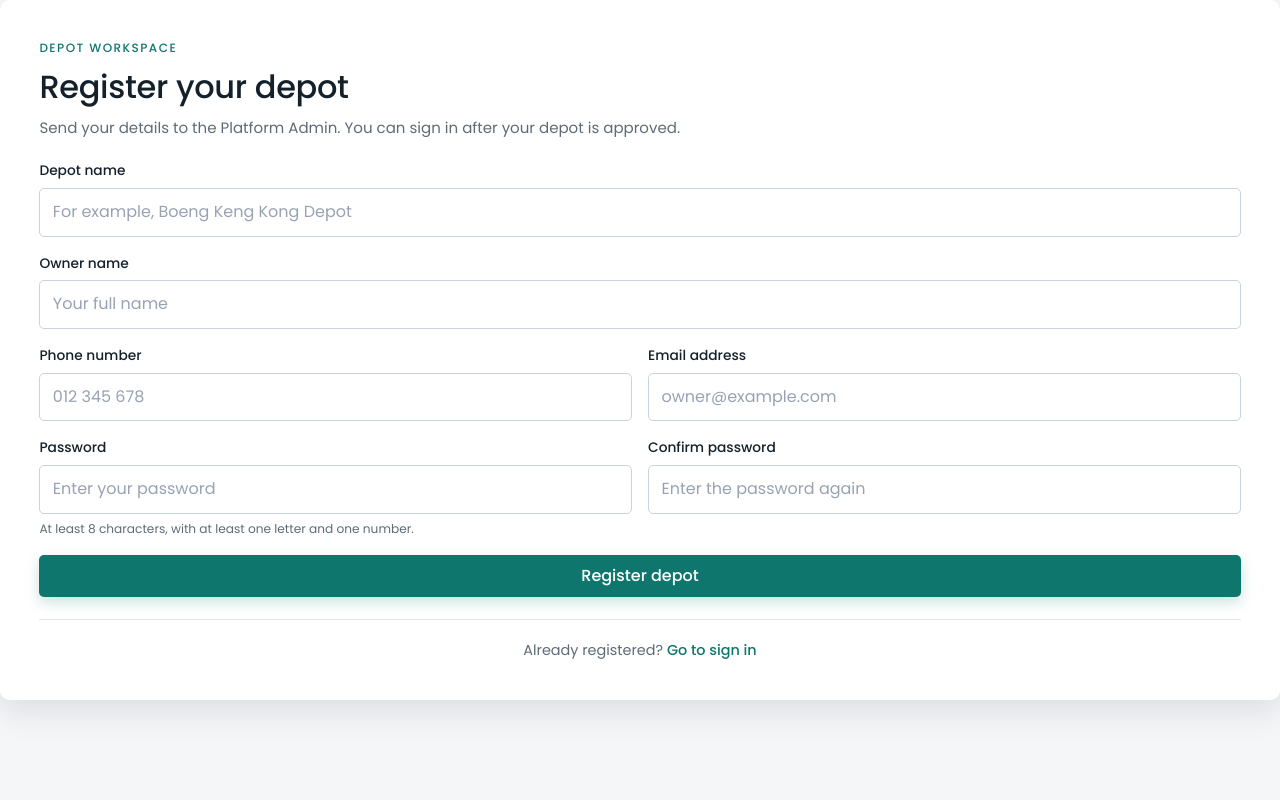
it: RegisterForm › validates the email and phone fields
The width and height of the screenshot is (1280, 800).
Type "Depot A" into the field labelled "Depot name".
click(640, 212); type("Depot A")  # box 39,188 -> 1241,237
Type "Owner A" into the field labelled "Owner name".
click(640, 305); type("Owner A")  # box 39,280 -> 1241,329
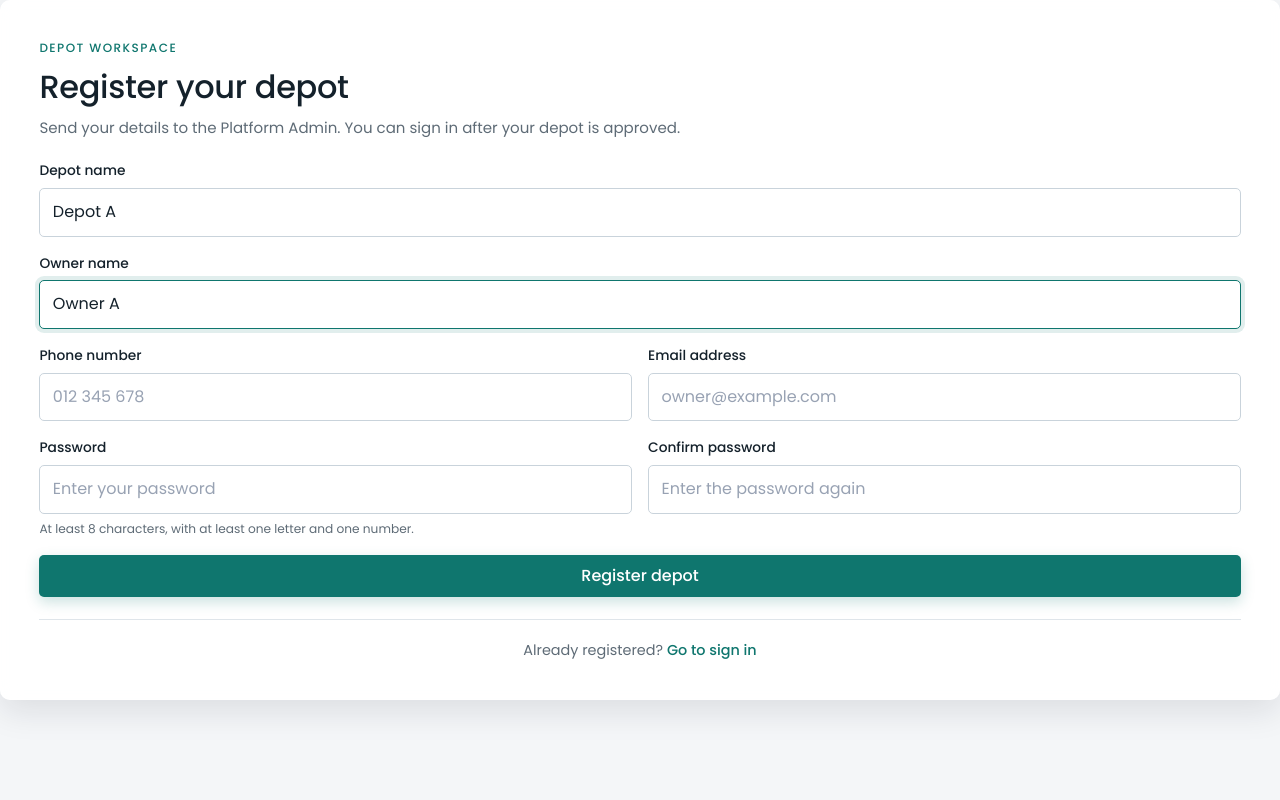
Type "not-a-phone" into the field labelled "Phone number".
click(336, 397); type("not-a-phone")  # box 39,373 -> 632,421
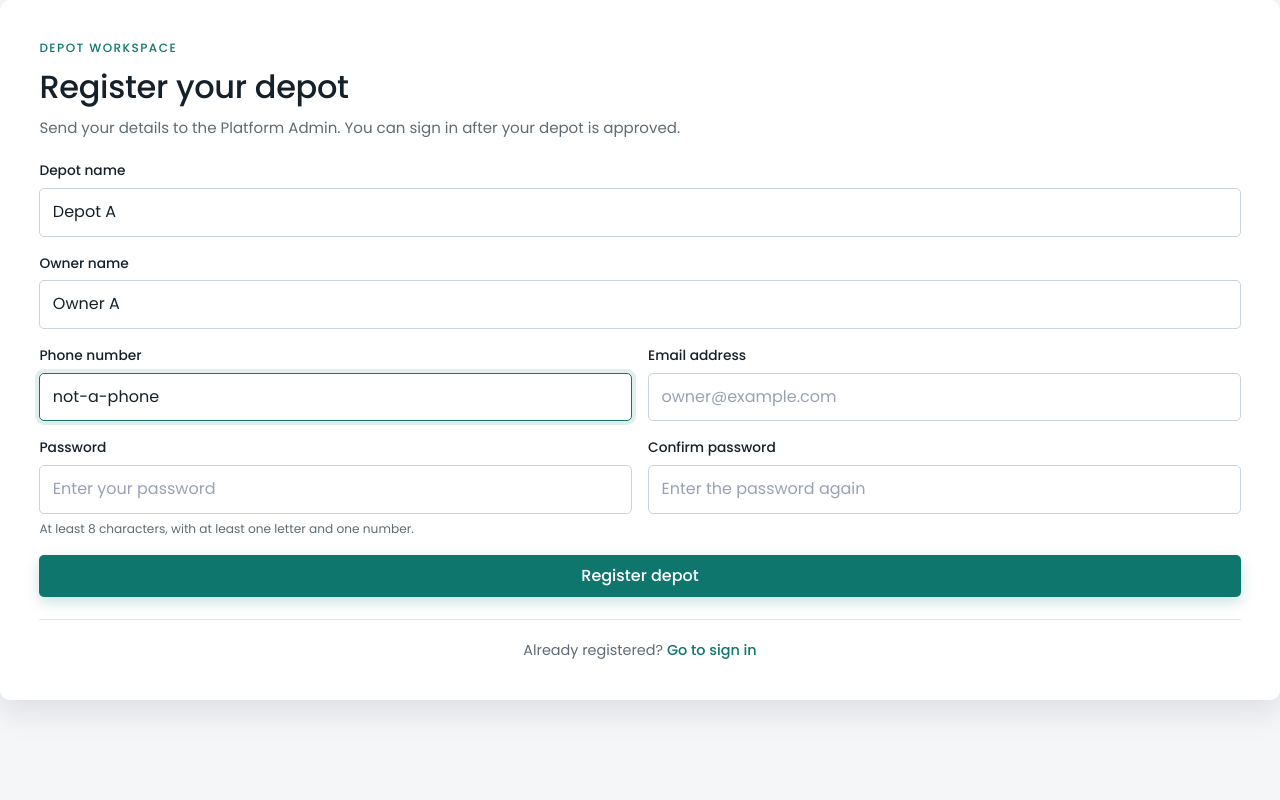
Type "not-an-email" into the field labelled "Email address".
click(944, 397); type("not-an-email")  # box 648,373 -> 1241,421
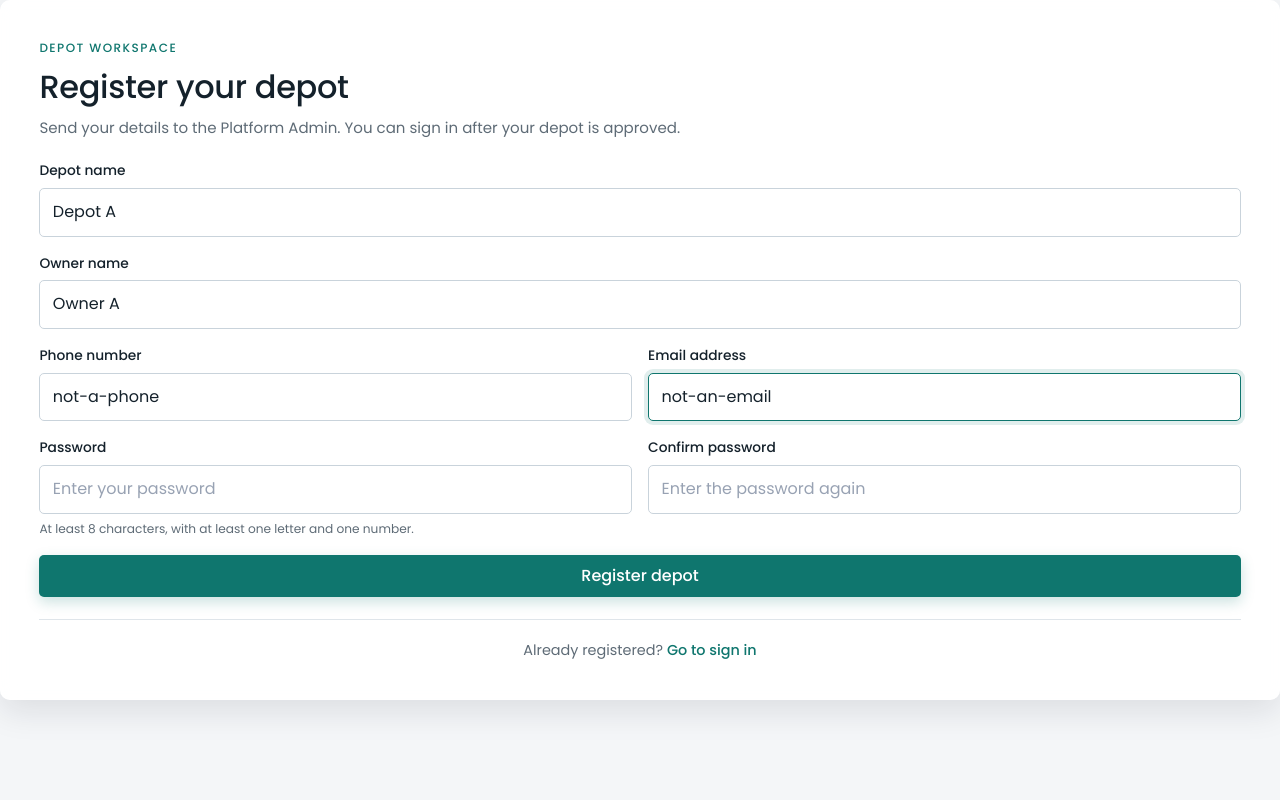
Type "Password1" into the password field labelled "Password".
click(336, 489); type("Password1")  # box 39,465 -> 632,514
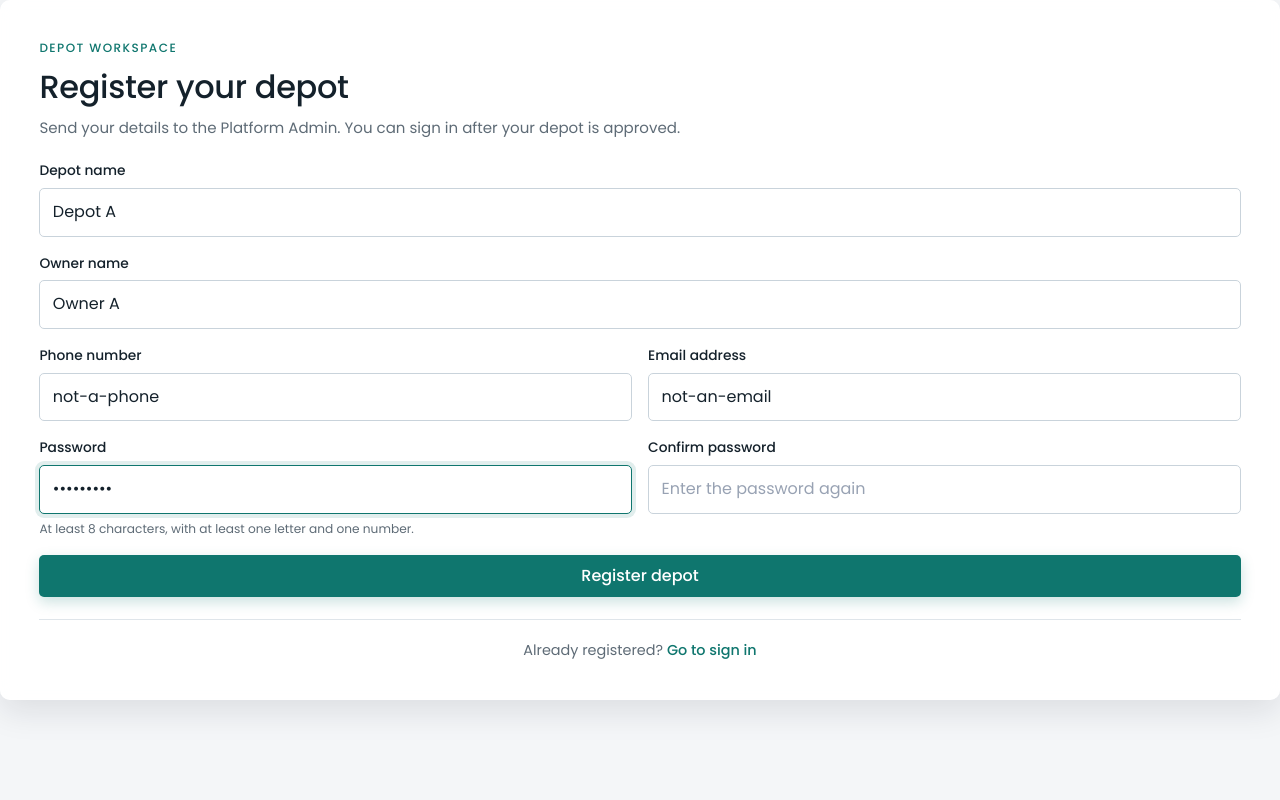
Type "Password1" into the password field labelled "Confirm password".
click(944, 489); type("Password1")  # box 648,465 -> 1241,514
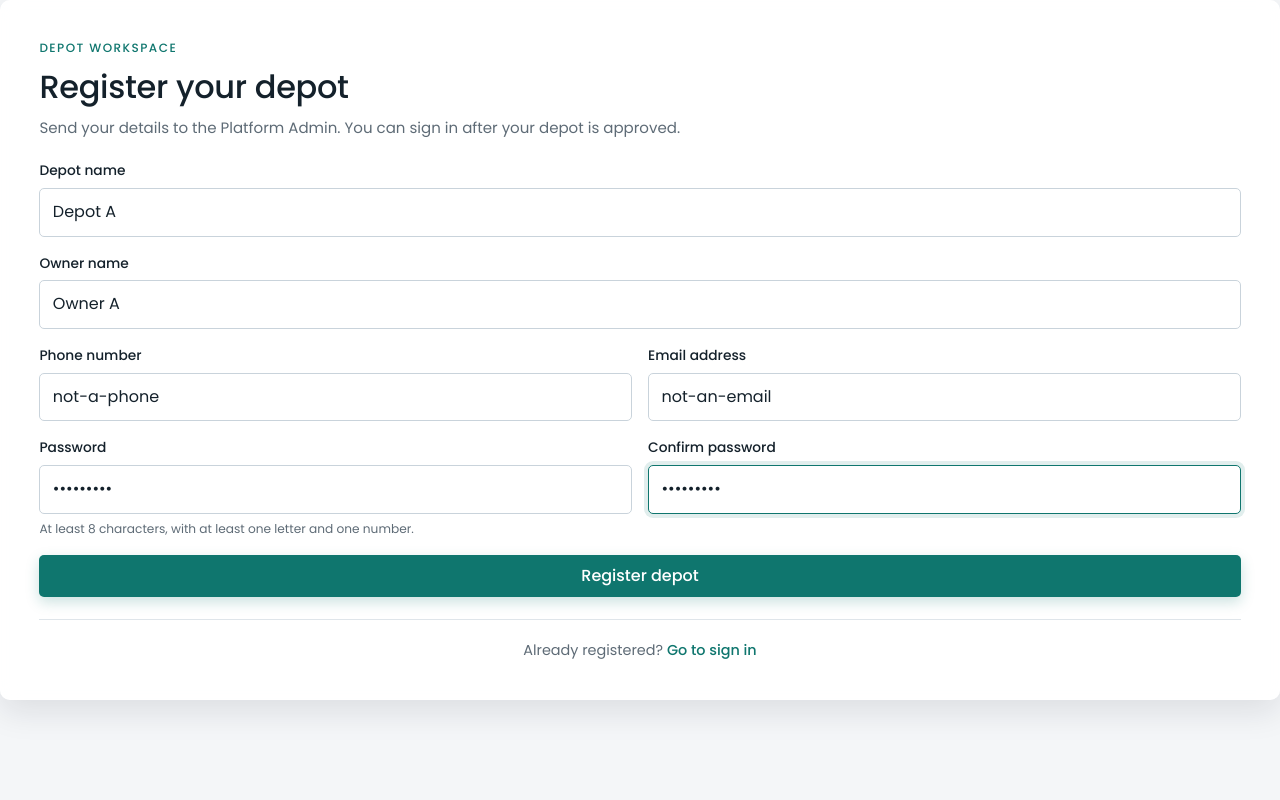
Click the button "Register depot".
click(640, 576)  # box 39,555 -> 1241,597
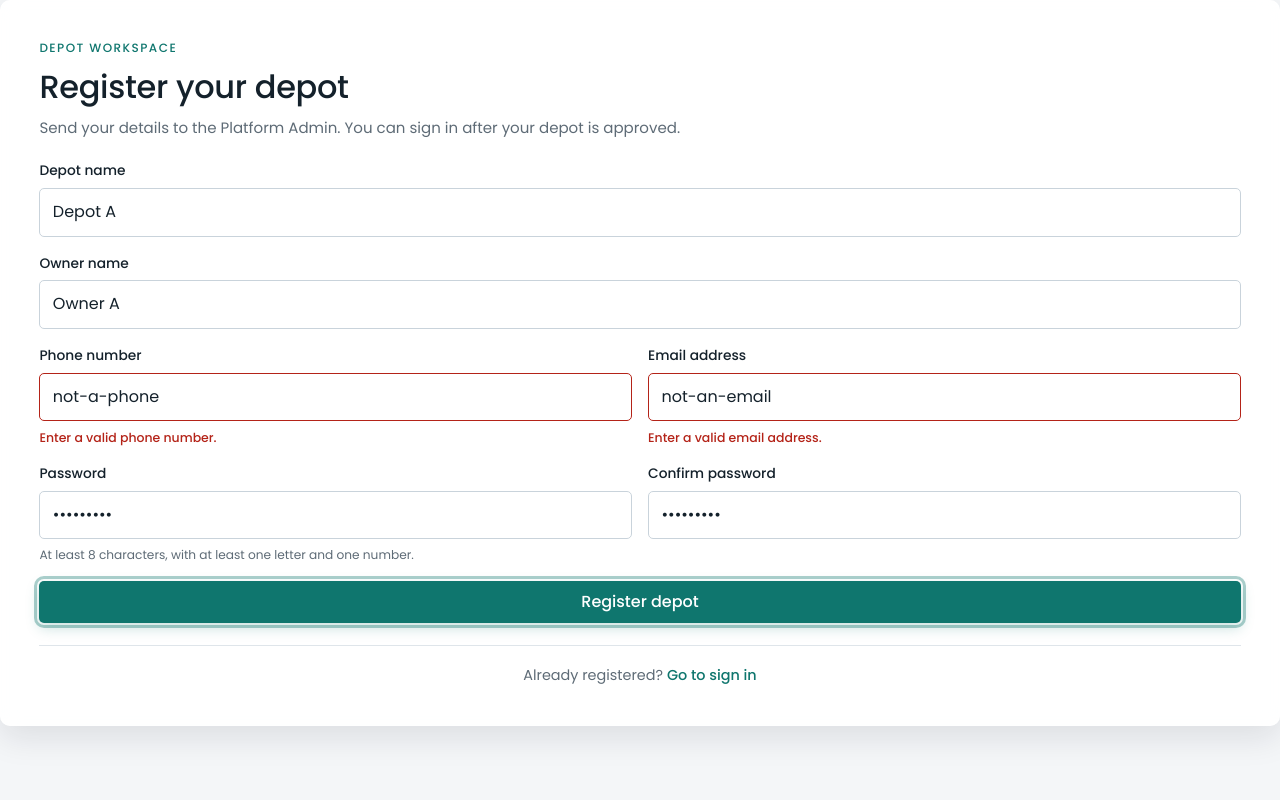
expect the text "Enter a valid phone number." is shown: met, box 39,429 -> 217,446
expect the text "Enter a valid email address." is shown: met, box 648,429 -> 822,446
